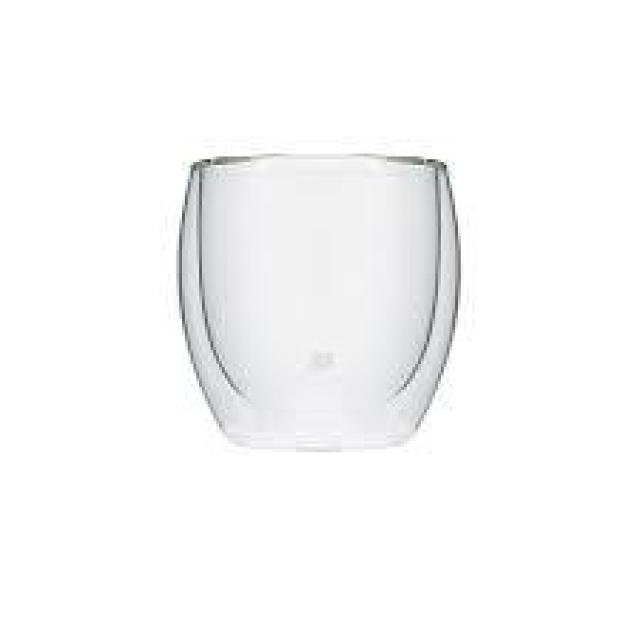non-organic waste: (173, 152, 461, 448)
